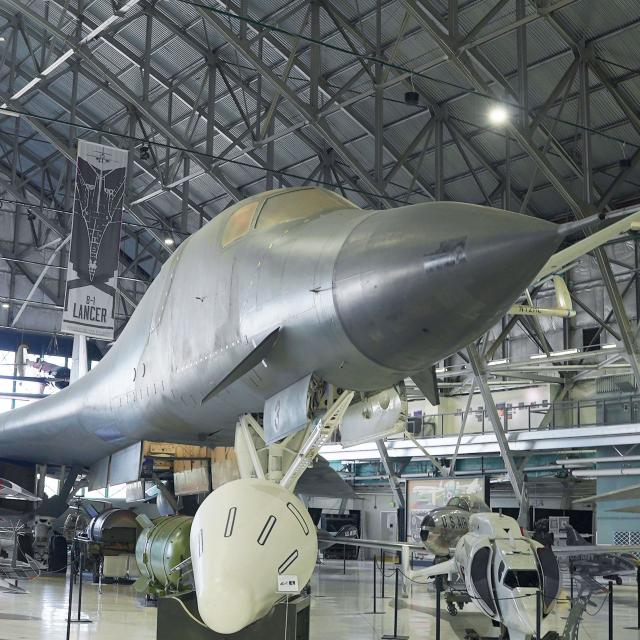B1: (0, 131, 624, 640)
